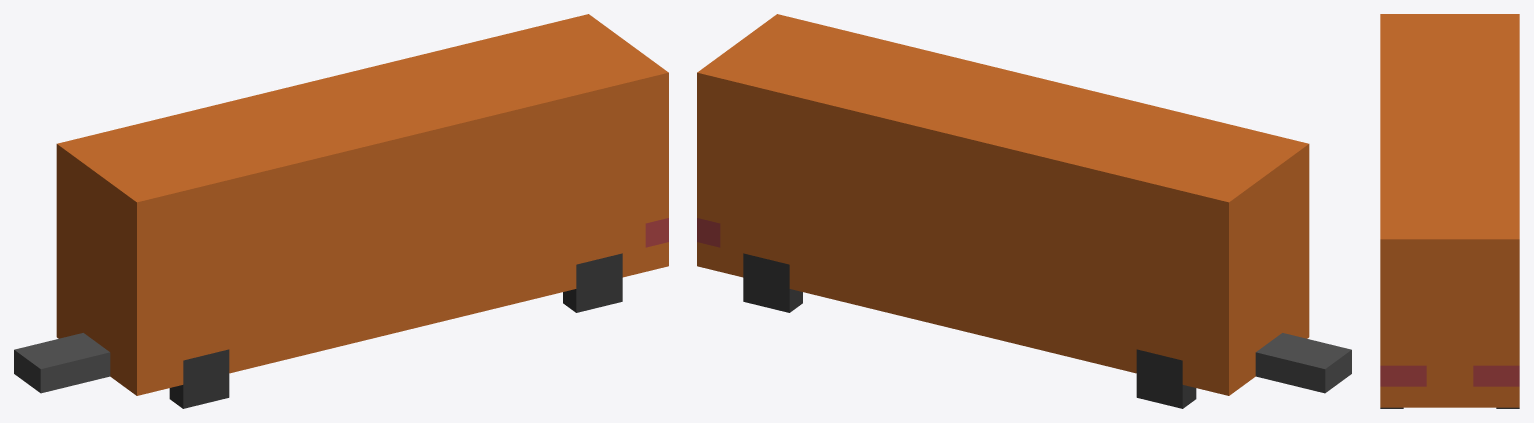
The model's file is truck-trailer-v1-orange.gltf.
3 renders of one model, left to right at view 1: azimuth 30°, elevation 25°; view 2: azimuth 150°, elevation 25°; view 3: azimuth 270°, elevation 25°, orthographic. The views are drawn at different scales.
Parts seen in each view (by area): view 1: model, wheels; view 2: model, wheels; view 3: model.
Part boxes in pixels (<box>): model: <box>14,14,668,395</box>; wheels: <box>169,253,622,408</box>; model: <box>697,14,1351,395</box>; wheels: <box>743,253,1196,408</box>; model: <box>1380,14,1519,407</box>.
Bounding box in the file's own units: 2.6 × 0.9 × 0.6.
Materials: 2 (2 with a texture image).
